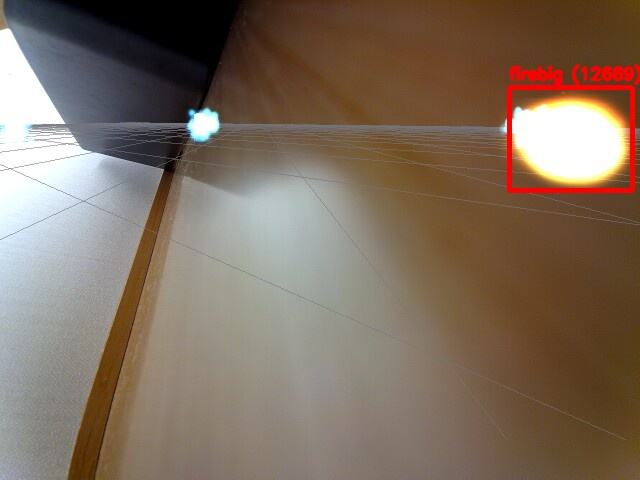firebig: (509, 87, 632, 190)
